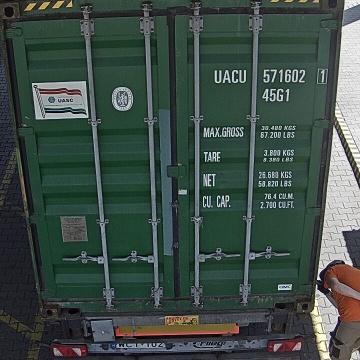serial_id: (214, 68, 327, 83)
